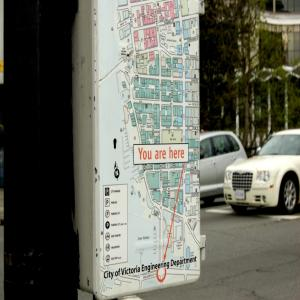Vehicle-registration-plate: (237, 191, 245, 202)
